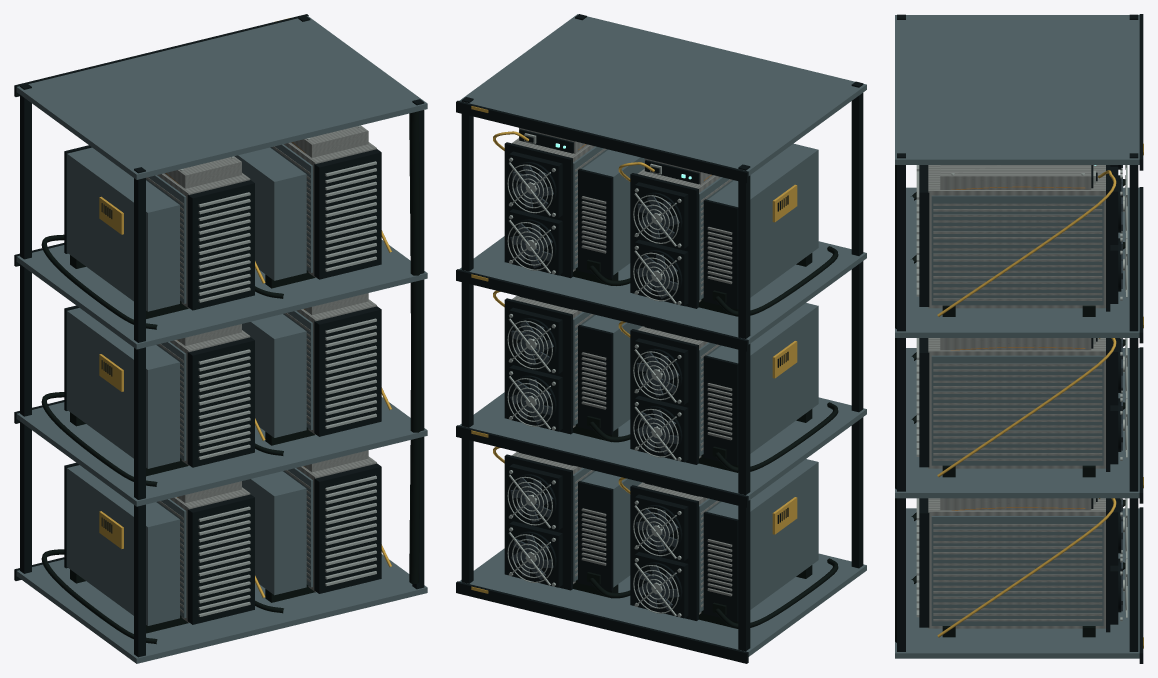
The model's file is mining-gangs-rack-v2.glb.
The picture shows the model from 3 angles, left to right: view 1: azimuth 30°, elevation 25°; view 2: azimuth 150°, elevation 25°; view 3: azimuth 270°, elevation 25°; orthographic projection. The views are drawn at different scales.
Visible parts, largest first — view 1: rack assembly / anodized heatsink, rack assembly / fan polymer, asic-2 / anodized heatsink, asic-4 / anodized heatsink, asic-6 / anodized heatsink, asic-1 / anodized heatsink, asic-3 / anodized heatsink, asic-5 / anodized heatsink, asic-2 / fan polymer, asic-4 / fan polymer, asic-6 / fan polymer, asic-1 / fan polymer (+21 smaller); view 2: rack assembly / anodized heatsink, rack assembly / fan polymer, fan rotor / graphite blades (×12), asic-2 / fan polymer, asic-1 / fan polymer, asic-4 / fan polymer, asic-6 / fan polymer, asic-3 / fan polymer, asic-5 / fan polymer, asic-2 / anodized heatsink, asic-6 / anodized heatsink, asic-4 / anodized heatsink (+24 smaller); view 3: rack assembly / anodized heatsink, asic-1 / brushed aluminium, asic-3 / brushed aluminium, asic-3 / anodized heatsink, asic-1 / anodized heatsink, asic-5 / brushed aluminium, asic-5 / anodized heatsink, rack assembly / fan polymer, asic-1 / fan polymer, asic-5 / fan polymer, asic-3 / fan polymer, asic-1 / steel guard wire (+6 smaller).
Boxes of the visible parts, x1,y1,x2,y2 form: rack assembly / anodized heatsink: (16, 16, 427, 663); rack assembly / fan polymer: (14, 14, 424, 657); asic-2 / anodized heatsink: (67, 147, 186, 311); asic-4 / anodized heatsink: (67, 308, 186, 468); asic-6 / anodized heatsink: (67, 465, 186, 625); asic-1 / anodized heatsink: (234, 144, 312, 280); asic-3 / anodized heatsink: (242, 311, 312, 437); asic-5 / anodized heatsink: (242, 468, 312, 595); asic-2 / fan polymer: (64, 145, 254, 310); asic-4 / fan polymer: (64, 305, 254, 467); asic-6 / fan polymer: (64, 462, 254, 624); asic-1 / fan polymer: (314, 149, 381, 279); rack assembly / anodized heatsink: (459, 14, 866, 656); rack assembly / fan polymer: (456, 14, 863, 663); fan rotor / graphite blades (×12): (510, 164, 679, 610); asic-2 / fan polymer: (630, 160, 788, 309); asic-1 / fan polymer: (504, 129, 613, 278); asic-4 / fan polymer: (630, 327, 788, 465); asic-6 / fan polymer: (630, 483, 788, 621); asic-3 / fan polymer: (504, 296, 613, 434); asic-5 / fan polymer: (504, 452, 613, 590); asic-2 / anodized heatsink: (699, 143, 818, 300); asic-6 / anodized heatsink: (699, 459, 818, 612); asic-4 / anodized heatsink: (699, 303, 818, 456); rack assembly / anodized heatsink: (895, 15, 1139, 658); asic-1 / brushed aluminium: (928, 165, 1105, 308); asic-3 / brushed aluminium: (928, 338, 1105, 468); asic-3 / anodized heatsink: (931, 355, 1103, 465); asic-1 / anodized heatsink: (931, 195, 1103, 305); asic-5 / brushed aluminium: (928, 498, 1105, 628); asic-5 / anodized heatsink: (931, 516, 1103, 625); rack assembly / fan polymer: (897, 14, 1143, 663); asic-1 / fan polymer: (919, 165, 1121, 311); asic-5 / fan polymer: (919, 498, 1121, 632); asic-3 / fan polymer: (919, 338, 1121, 471); asic-1 / steel guard wire: (916, 170, 1127, 300).
Size of the model in its own units: 3.47 by 5.61 by 2.51.
10 materials, 1 textured.
